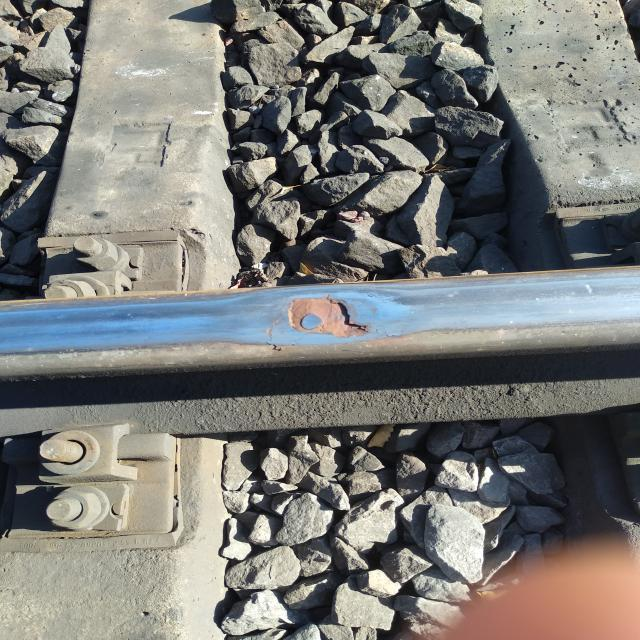railway_join_bar_defects_low: (264, 293, 376, 343)
